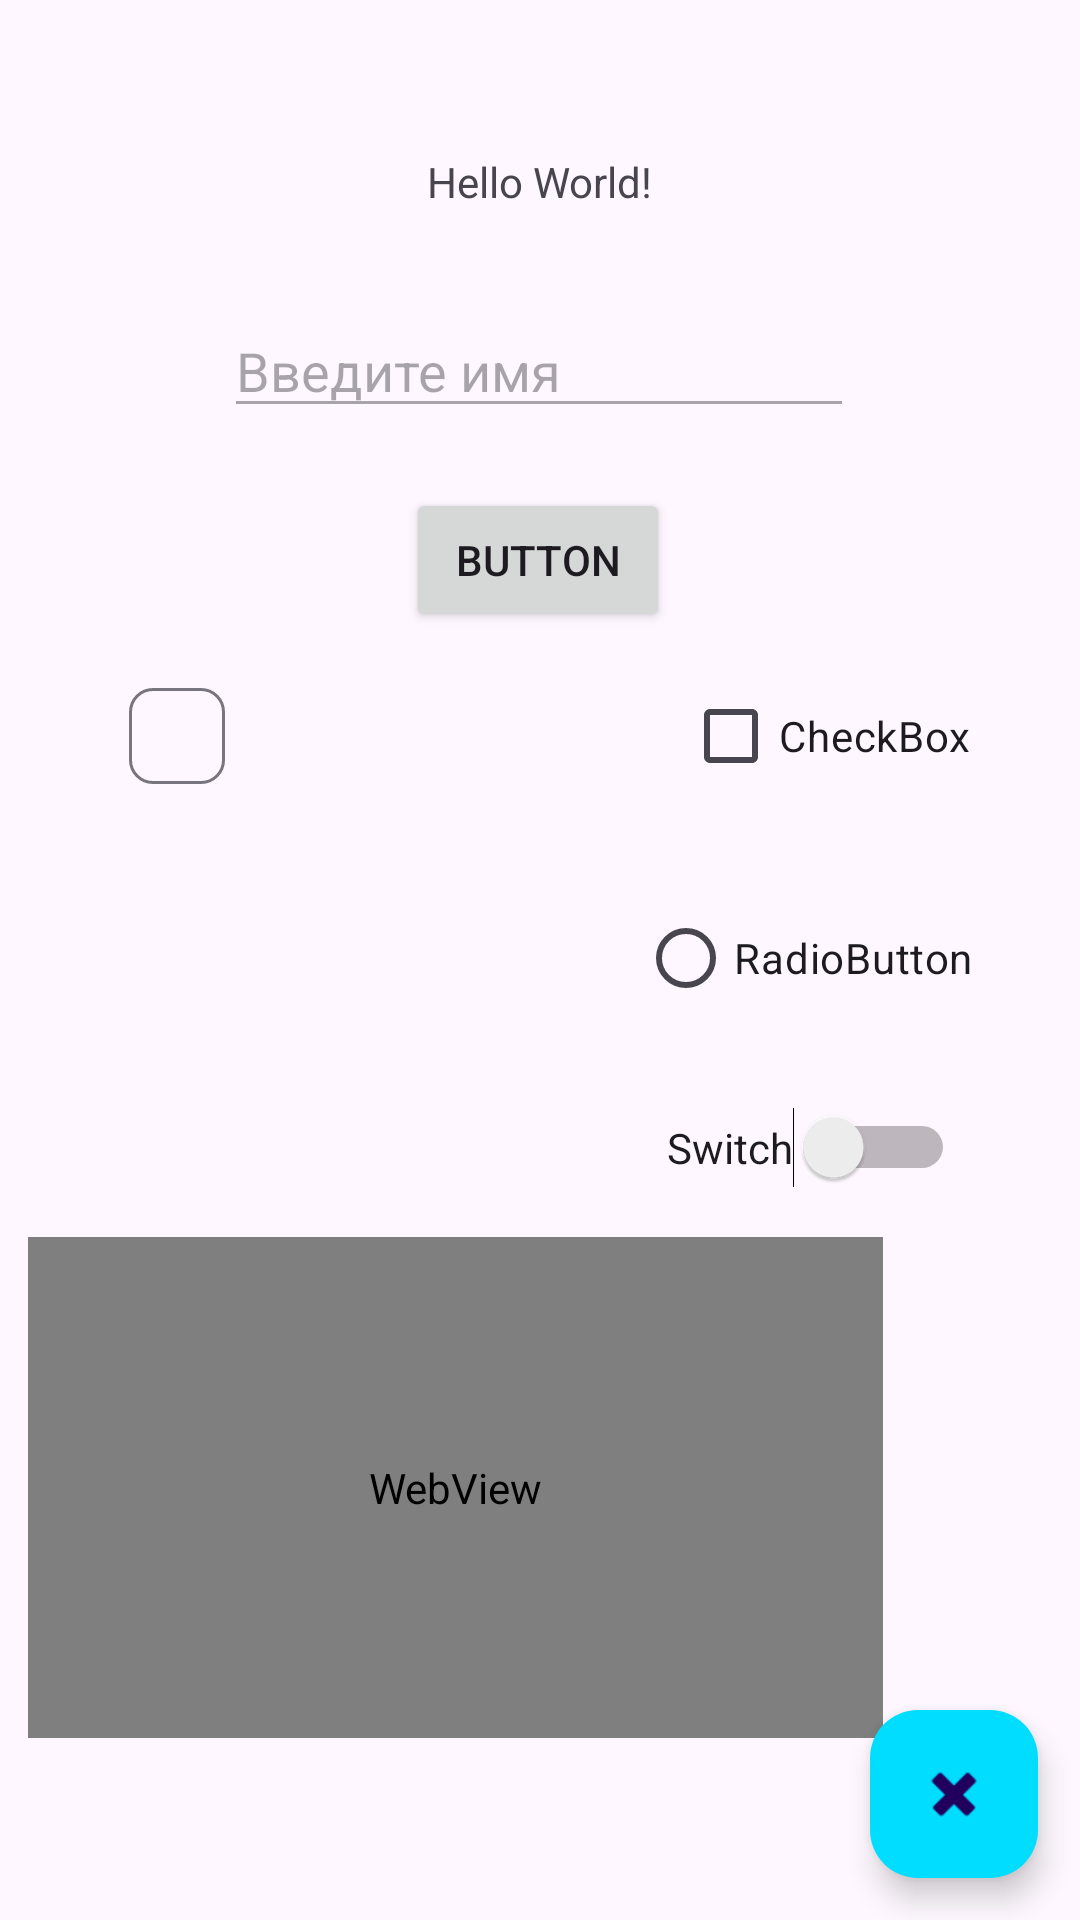

Named icons in this screenshot (1080 × 1920) and their bounding boxes, rect(x1, y1, x2, y2):
delete: rect(870, 1710, 1038, 1878)
